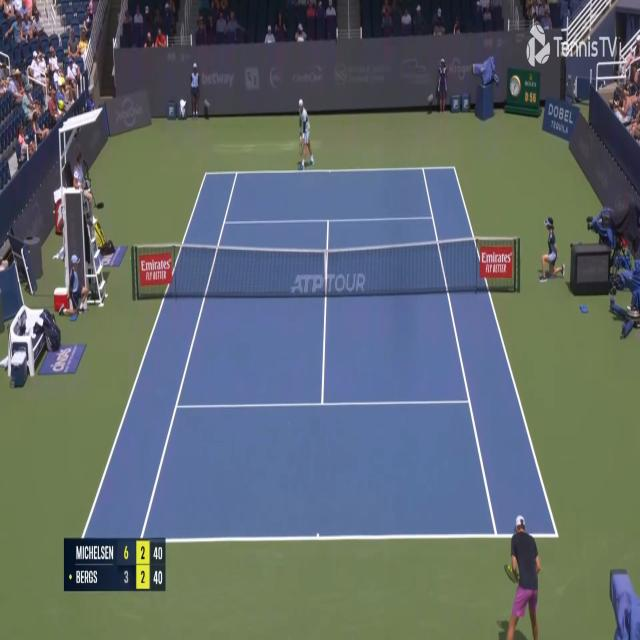tennis-player: (501, 512, 544, 640), (296, 96, 316, 171)
